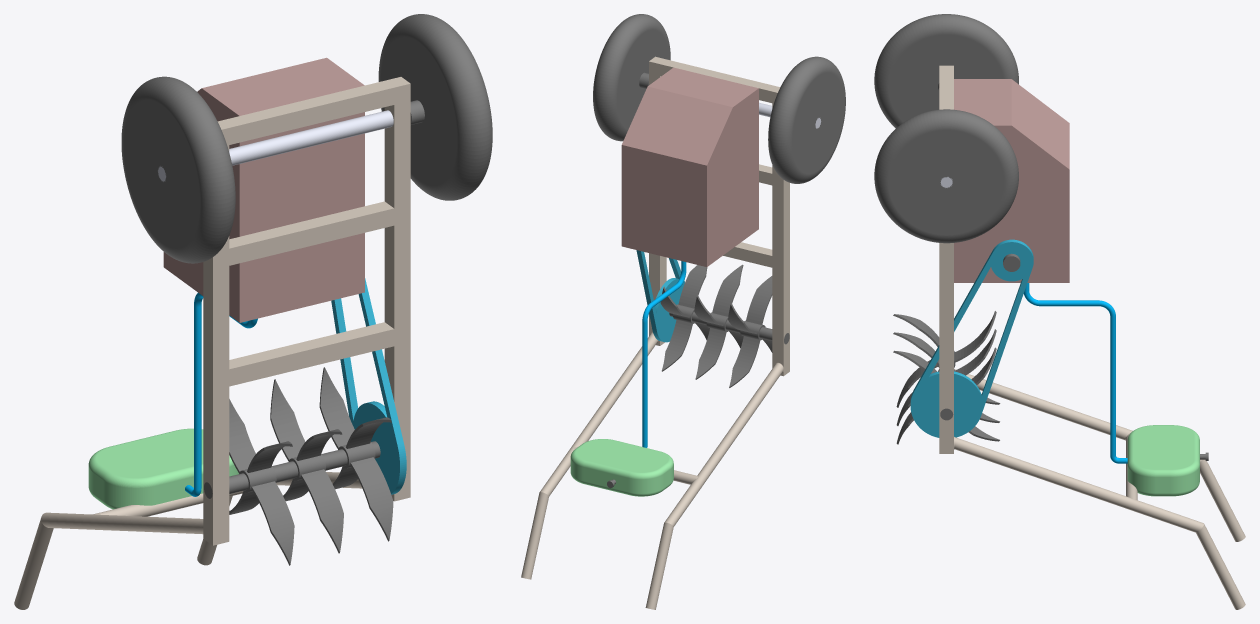
The model's file is Assem2.glb.
3 views of the same model, side by side, from view 1: azimuth 30°, elevation 25°; view 2: azimuth 150°, elevation 25°; view 3: azimuth 270°, elevation 25° (orthographic). The views are drawn at different scales.
Parts seen in each view (by area): view 1: Node1, Node2, Node6, Node4, Node3, Node7, Node5; view 2: Node6, Node1, Node2, Node4, Node3, Node5; view 3: Node1, Node6, Node2, Node3, Node4, Node5.
Part boxes in pixels (x1,y1,x2,y2): Node1: (121,14,492,565); Node2: (14,77,410,609); Node6: (163,57,364,322); Node4: (88,428,238,509); Node3: (331,278,406,494); Node7: (158,110,393,181); Node5: (185,293,257,496); Node6: (621,67,758,266); Node1: (593,14,845,488); Node2: (521,56,789,609); Node4: (570,439,673,496); Node3: (636,250,684,342); Node5: (642,261,686,447); Node1: (874,14,1208,460); Node6: (954,79,1069,282); Node2: (939,65,1245,609); Node3: (910,239,1033,437); Node4: (1127,425,1199,496); Node5: (1023,283,1127,463).
Size of the model in its own units: 88 by 195 by 128.
